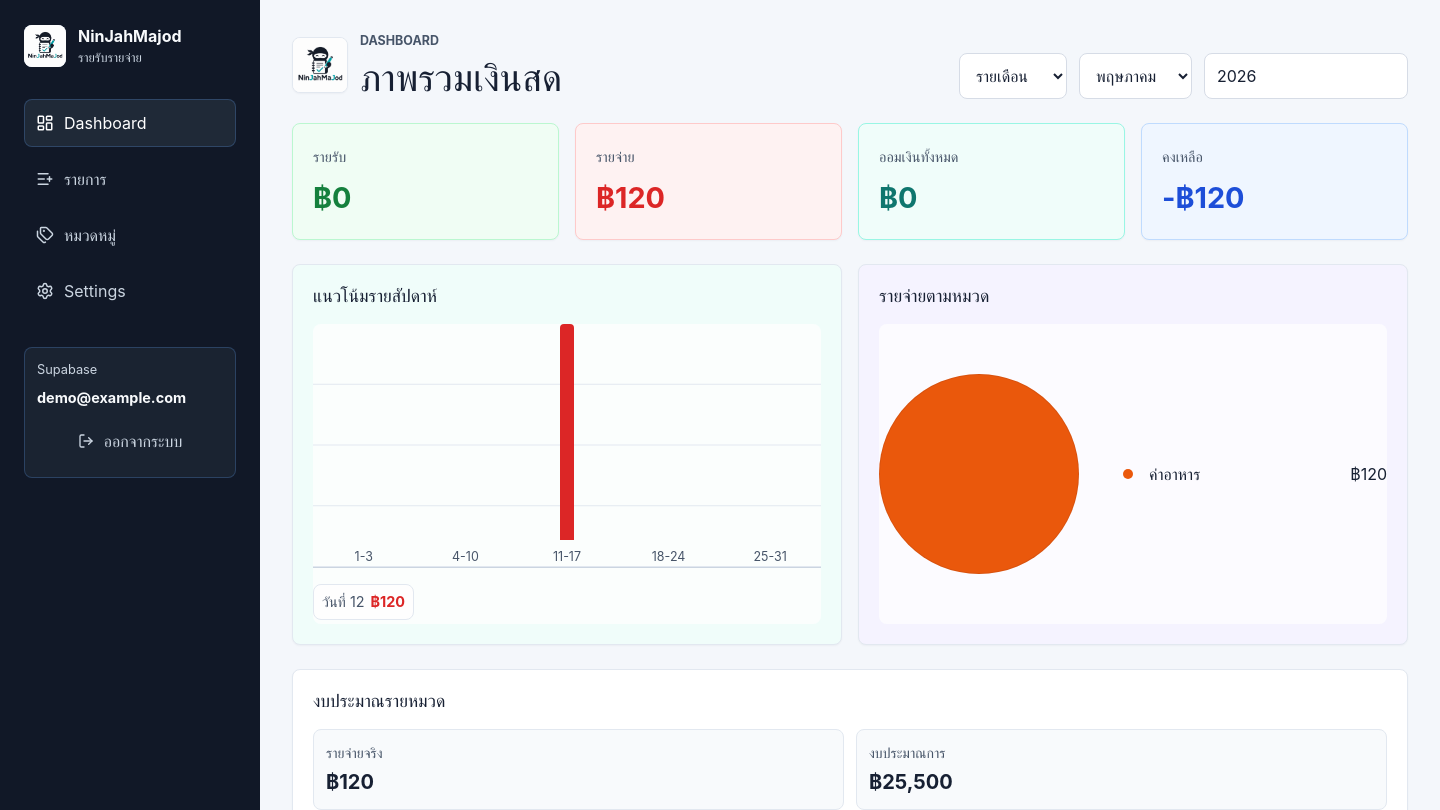
Test case: App Supabase flow › loads remote data when a Supabase session exists
Expected: the text "demo@example.com" is shown, [37,389,186,406]
Click the button "Settings" at (130, 291), box [24,267,236,315]
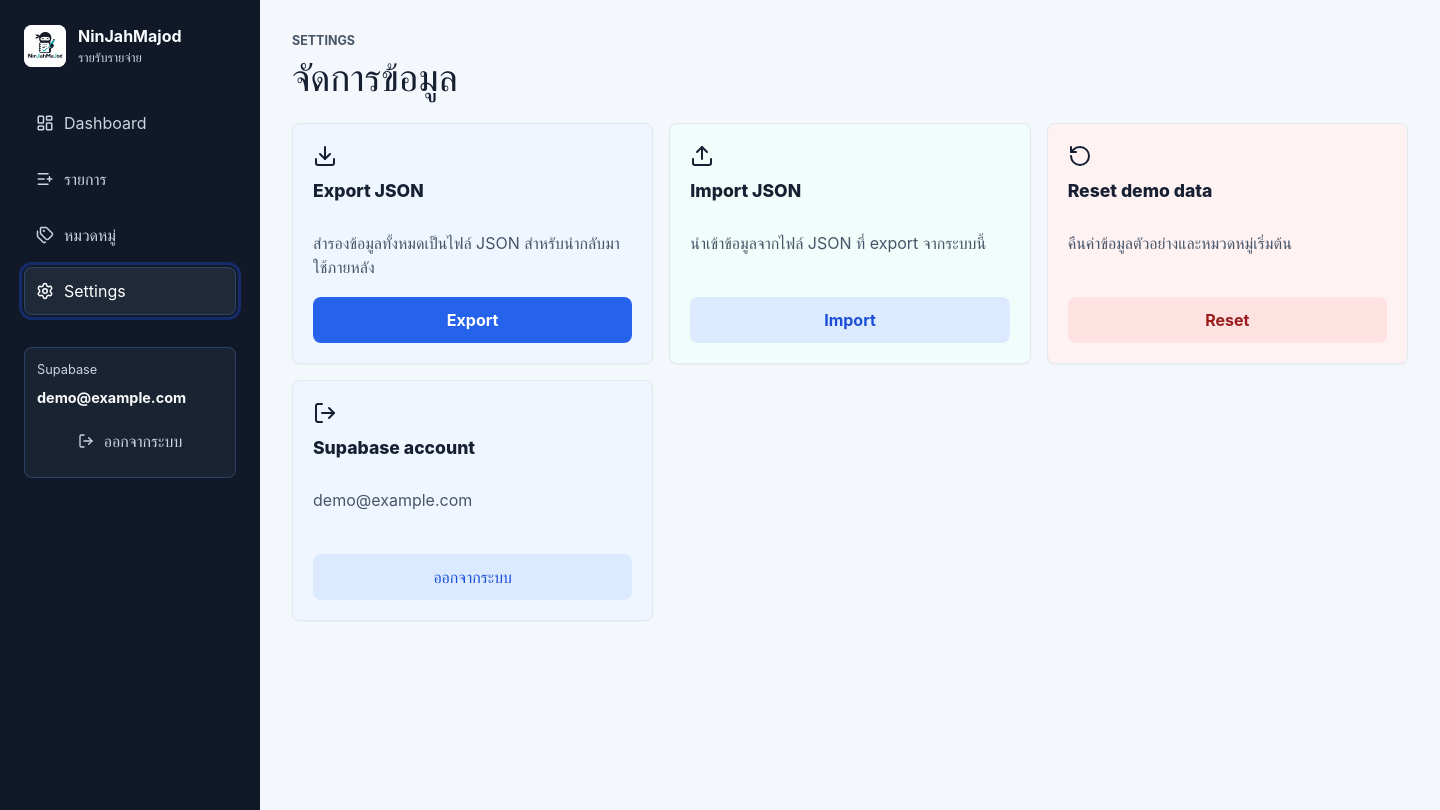
Expected: the 1st button "ออกจากระบบ" is shown, [37,417,223,465]
Now the heading "Supabase account" is shown, box [313,437,475,458]
